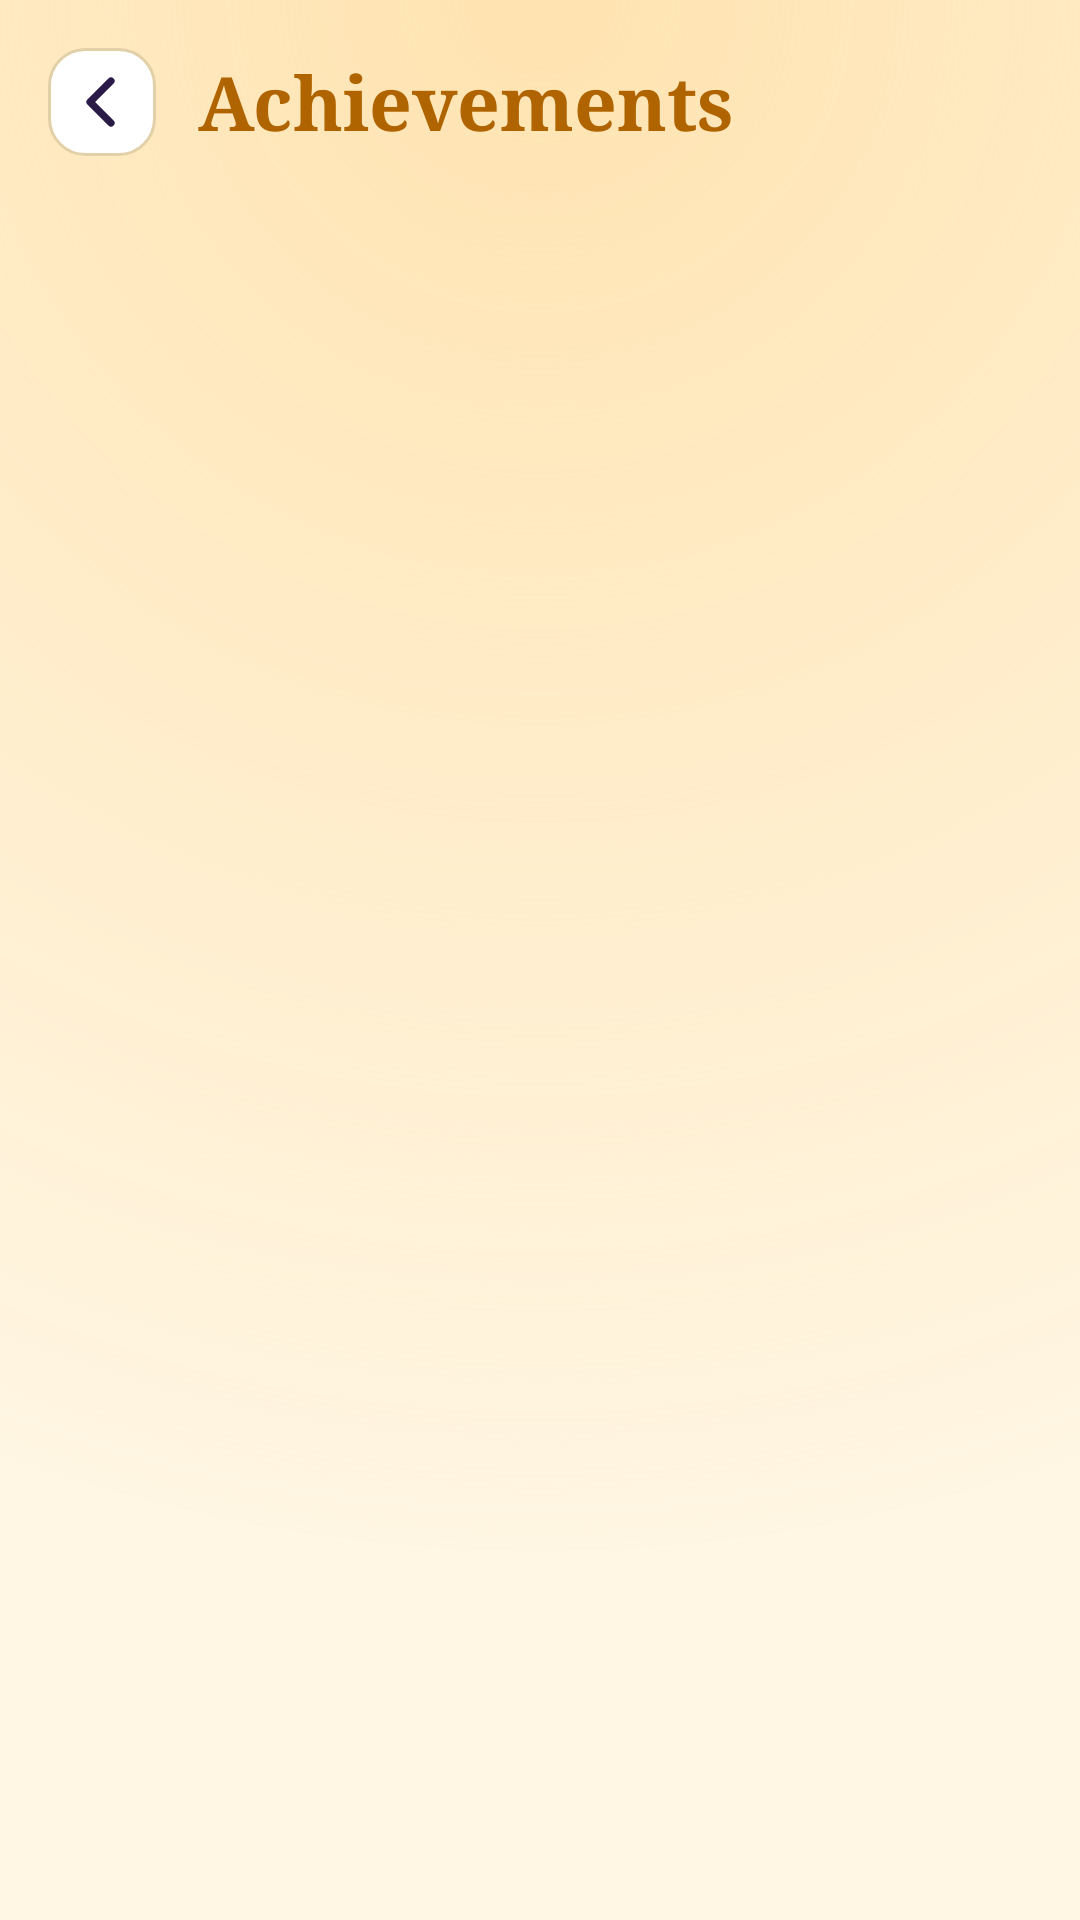

Named icons in this screenshot (1080px x 1920px) and their centers, (x,y):
Back: (102,102)
